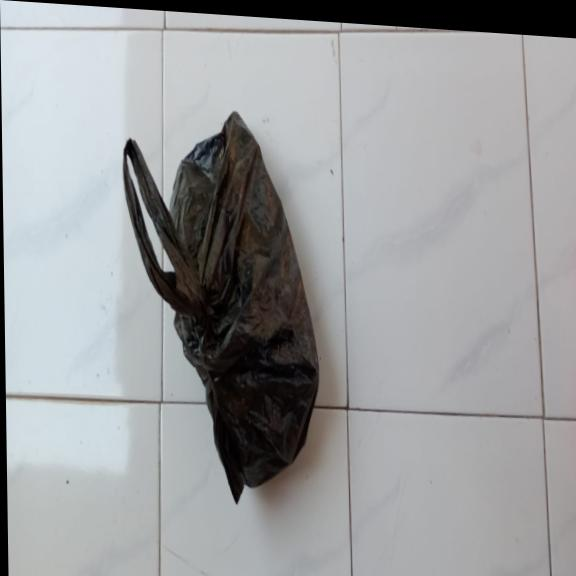Plastik: (122, 104, 322, 512)
